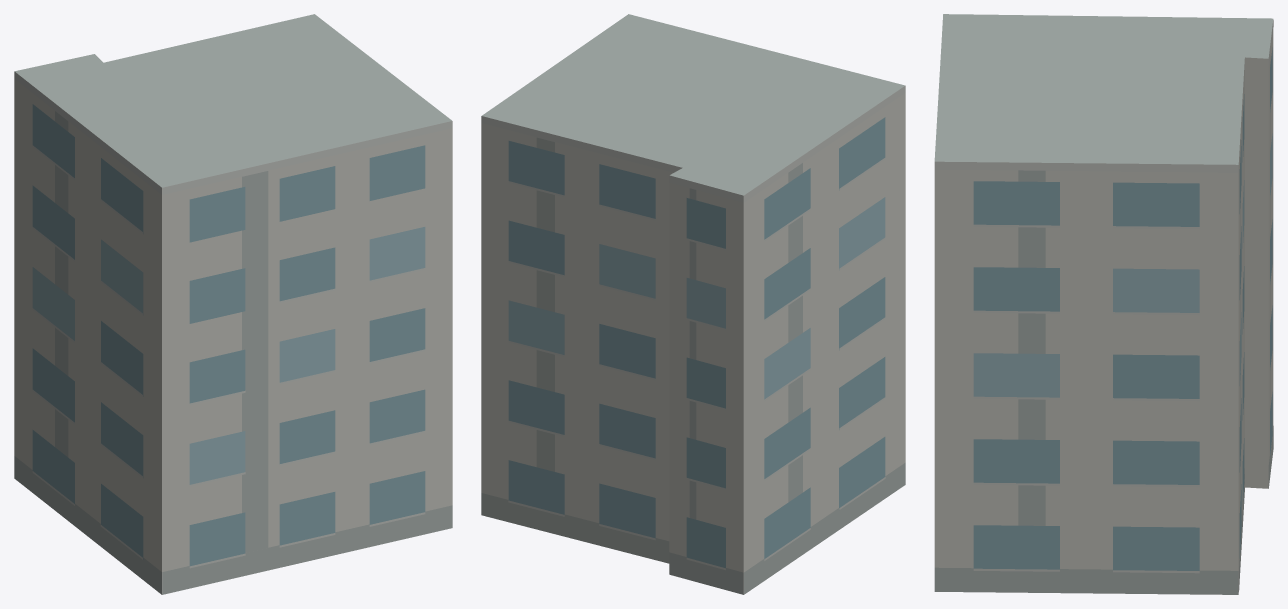
File: survey-upis-32802012.glb
3 views of the same model, side by side, from view 1: azimuth 30°, elevation 25°; view 2: azimuth 150°, elevation 25°; view 3: azimuth 270°, elevation 25° (orthographic). The views are drawn at different scales.
Parts seen in each view (by area): view 1: survey-upis-32802012.tmp; view 2: survey-upis-32802012.tmp; view 3: survey-upis-32802012.tmp.
Part boxes in pixels (x1,y1,x2,y2): survey-upis-32802012.tmp: (14,14,452,594); survey-upis-32802012.tmp: (481,14,905,594); survey-upis-32802012.tmp: (934,14,1273,594).
Bounding box in the file's own units: 10.01 × 13.3 × 9.51.
